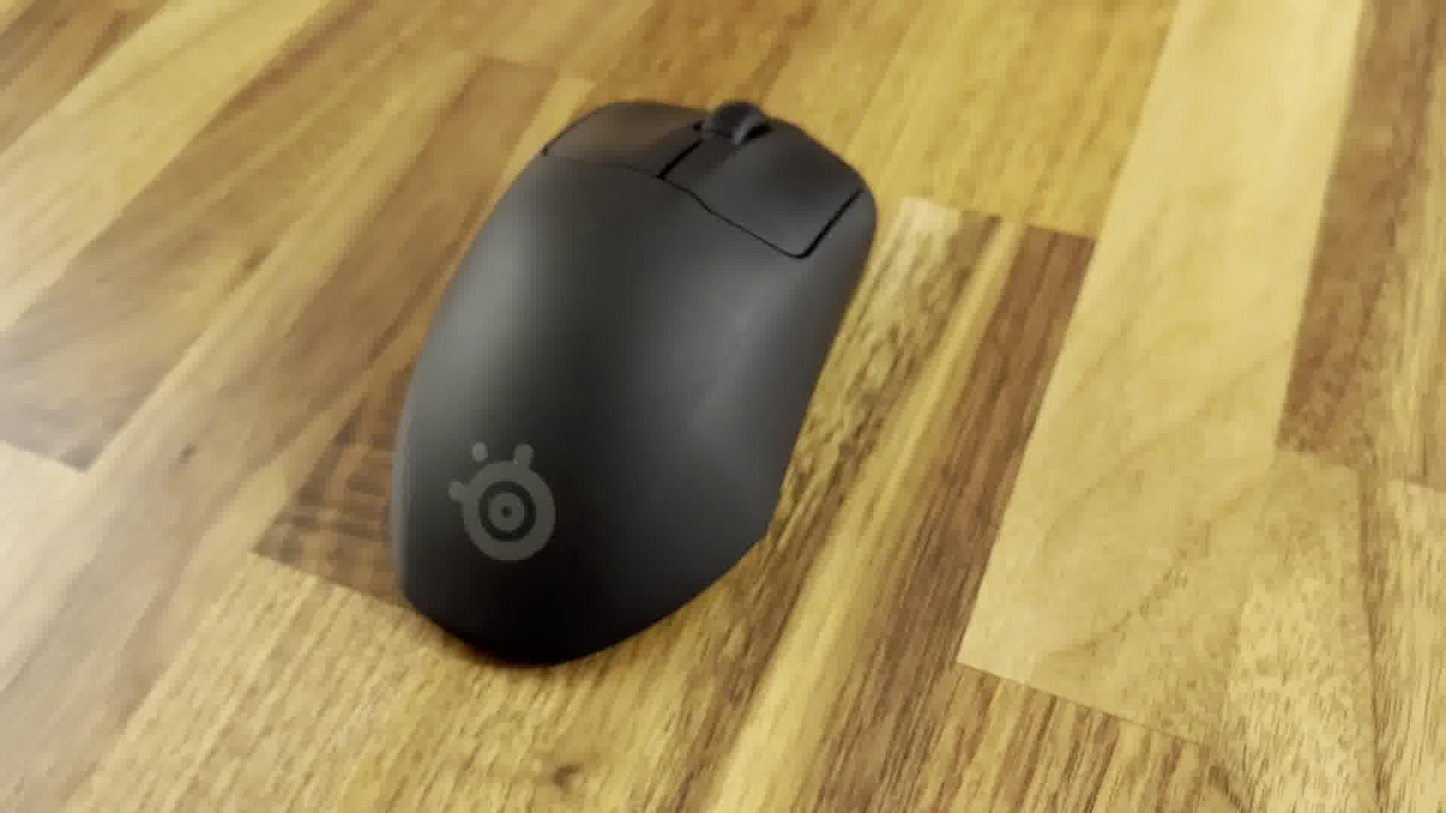steel-series: (382, 90, 885, 674)
